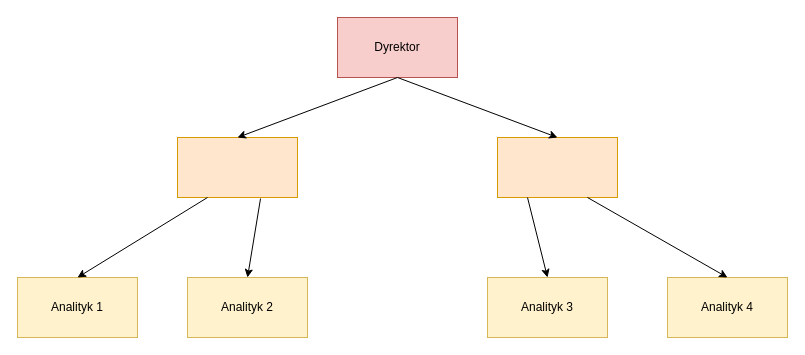
The diagram is 805 pixels wide and 355 high, and some of its shapes have lost their labels. Here are the shapes that lost their labels. From the top down, the centre of each, then its label:
point 237,167: Menadżer 1
point 557,167: Menadżer 2
